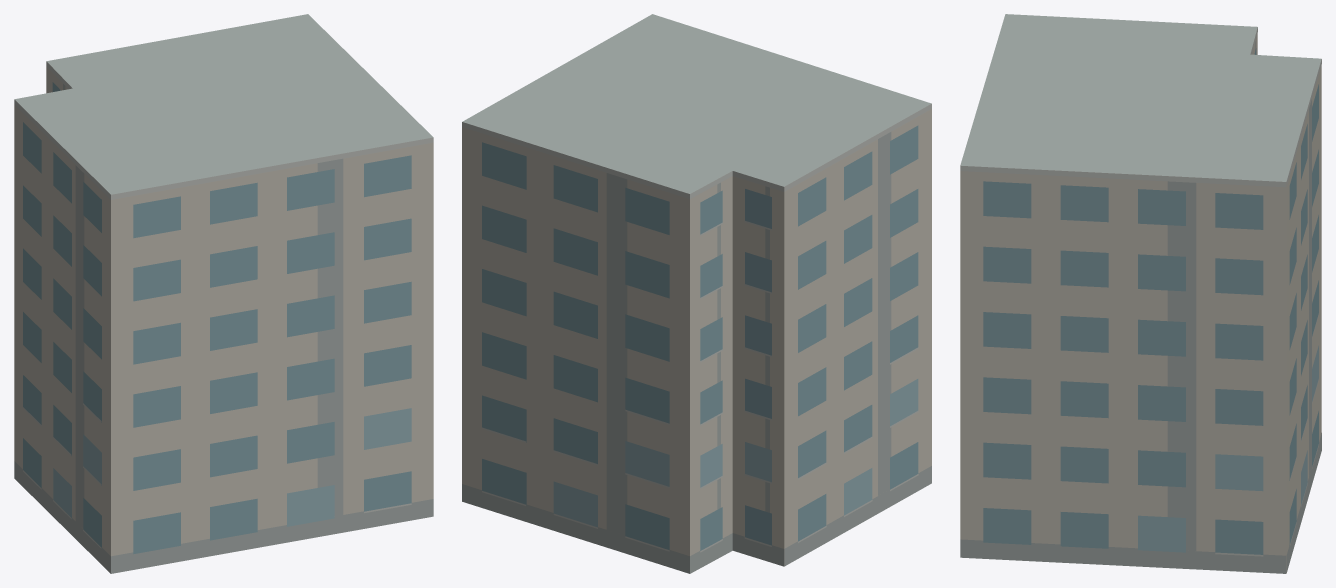
File: survey-upis-32872966.glb
3 renders of one model, left to right at view 1: azimuth 30°, elevation 25°; view 2: azimuth 150°, elevation 25°; view 3: azimuth 270°, elevation 25°, orthographic. The views are drawn at different scales.
Parts seen in each view (by area): view 1: survey-upis-32872966.tmp; view 2: survey-upis-32872966.tmp; view 3: survey-upis-32872966.tmp.
Part boxes in pixels (x1=…): survey-upis-32872966.tmp: x1=14, y1=14, x2=433, y2=573; survey-upis-32872966.tmp: x1=462, y1=14, x2=931, y2=573; survey-upis-32872966.tmp: x1=960, y1=14, x2=1321, y2=573.
Bounding box in the file's own units: 16.51 × 17.95 × 15.02.
